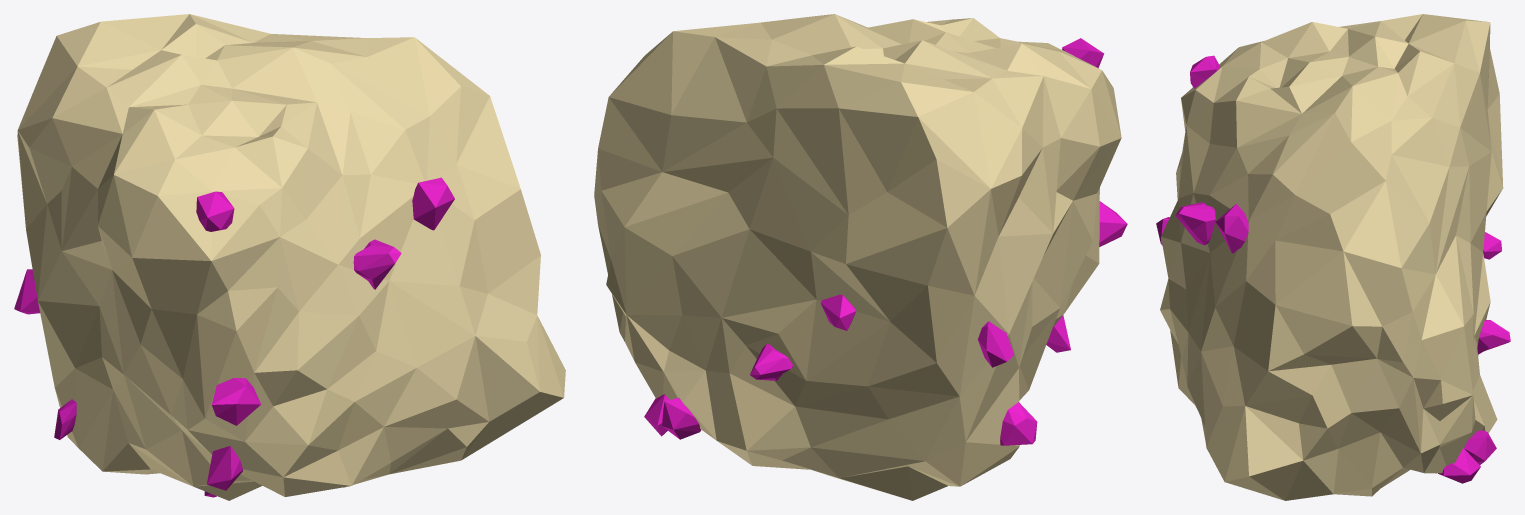
The model's file is CrystalOre (8).fbx.
3 renders of one model, left to right at view 1: azimuth 30°, elevation 25°; view 2: azimuth 150°, elevation 25°; view 3: azimuth 270°, elevation 25°, orthographic. The views are drawn at different scales.
Parts seen in each view (by area): view 1: Asteroid228; view 2: Asteroid228; view 3: Asteroid228.
Part boxes in pixels (x1,y1,x2,y2): Asteroid228: [14, 14, 565, 500]; Asteroid228: [594, 14, 1127, 500]; Asteroid228: [1156, 14, 1510, 500].
Bounding box in the file's own units: 794 × 755 × 616.
